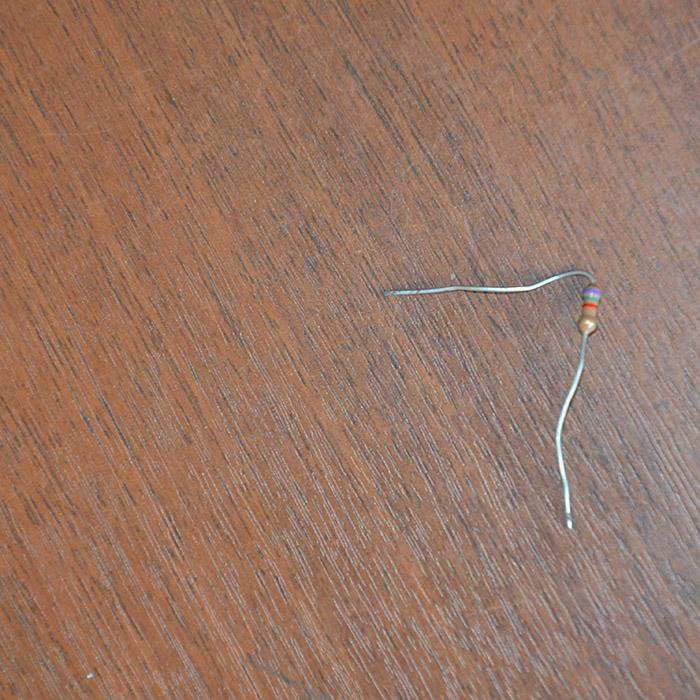resistor: (577, 286, 601, 332)
